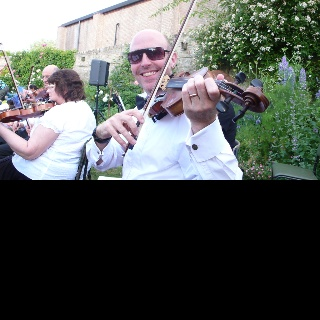without_mask: (129, 33, 169, 93), (38, 70, 53, 88), (45, 82, 58, 102)
